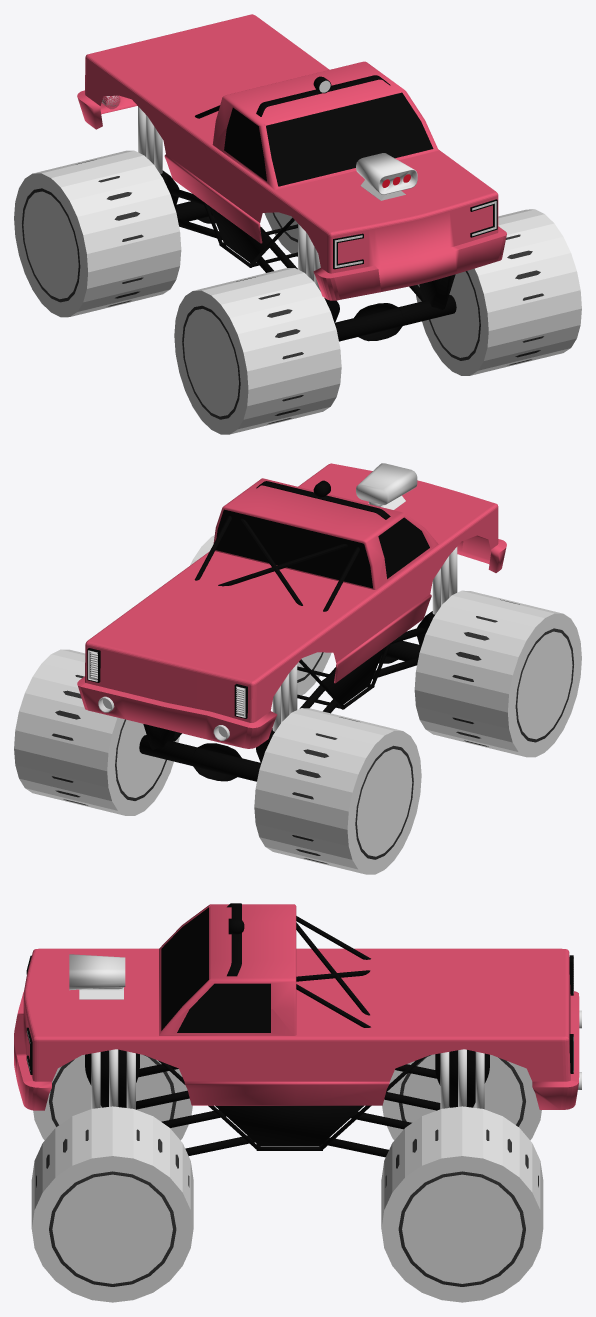
File: car-game12.gltf
The picture shows the model from 3 angles, top to bottom: view 1: azimuth 30°, elevation 25°; view 2: azimuth 150°, elevation 25°; view 3: azimuth 270°, elevation 25°; orthographic projection. The views are drawn at different scales.
Visible parts, largest first — view 1: body, canon-fr, canon-rr, canon-fl, windows, rearMainAxis, airInBase, Cube, wheelRr, wheelFr, suspensionRear, frontSuspensionBase (+9 smaller); view 2: body, canon-fr, canon-rr, canon-rl, windows, frontMainAxis, cage, airInBase, Cube, wheelFr, wheelRr, suspensionFront (+7 smaller); view 3: body, canon-rl, canon-fl, windows, canon-rr, canon-fr, Cube, cage, airInBase, wheelRl, wheelFl, forkFront (+6 smaller).
Boxes of the visible parts, x1,y1,x2,y2 form: body: [77, 14, 506, 300]; canon-fr: [174, 268, 341, 434]; canon-rr: [14, 150, 181, 317]; canon-fl: [416, 209, 581, 375]; windows: [224, 92, 433, 186]; rearMainAxis: [335, 295, 456, 341]; airInBase: [356, 153, 417, 200]; Cube: [209, 206, 271, 262]; wheelRr: [22, 159, 143, 306]; wheelFr: [182, 277, 303, 424]; suspensionRear: [138, 106, 162, 173]; frontSuspensionBase: [324, 274, 455, 323]; body: [77, 463, 506, 748]; canon-fr: [414, 590, 581, 757]; canon-rr: [254, 708, 421, 874]; canon-rl: [14, 649, 179, 815]; windows: [216, 509, 429, 588]; frontMainAxis: [139, 735, 260, 781]; cage: [194, 516, 390, 709]; airInBase: [356, 463, 417, 509]; Cube: [322, 648, 384, 704]; wheelFr: [452, 599, 573, 746]; wheelRr: [292, 717, 413, 864]; suspensionFront: [432, 547, 457, 614]; body: [14, 904, 579, 1110]; canon-rl: [381, 1106, 543, 1302]; canon-fl: [31, 1106, 193, 1302]; windows: [161, 907, 270, 1032]; canon-rr: [382, 1054, 541, 1140]; canon-fr: [33, 1054, 192, 1140]; Cube: [215, 1105, 363, 1146]; cage: [158, 916, 424, 1150]; airInBase: [69, 954, 125, 999]; wheelRl: [385, 1129, 538, 1286]; wheelFl: [36, 1129, 189, 1286]; forkFront: [125, 1064, 254, 1155].
Size of the model in its own units: 8.38 by 6.47 by 11.31.
